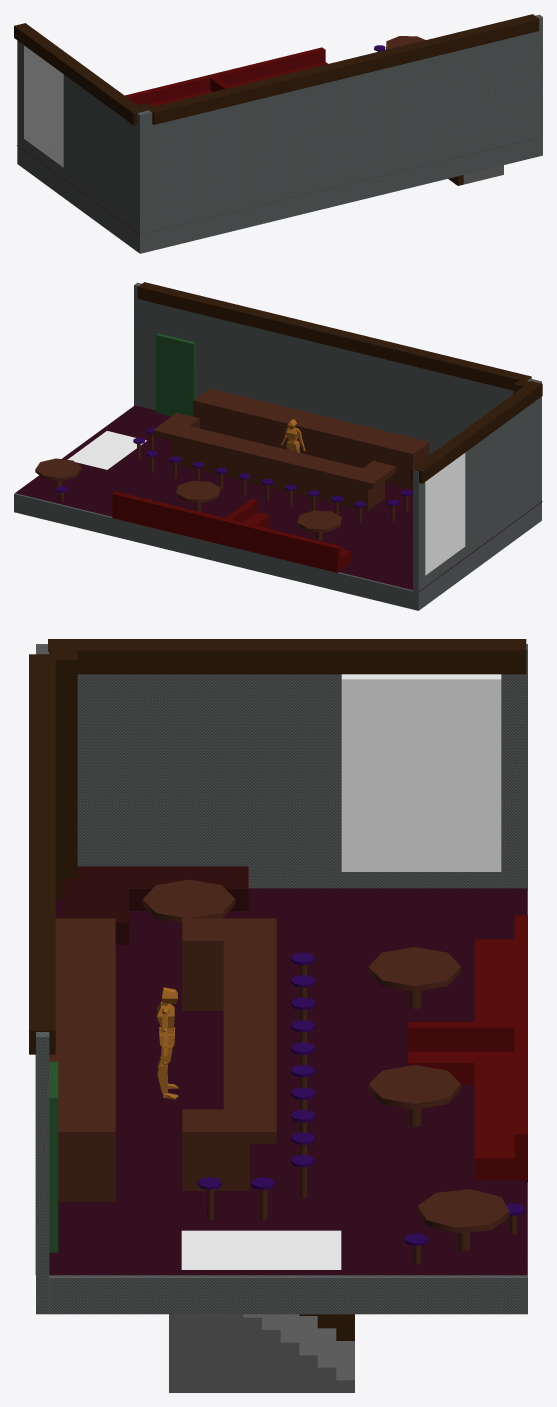
Rendered from Speakeasy (1).fbx.
3 views of the same model, one above another, from view 1: azimuth 30°, elevation 25°; view 2: azimuth 150°, elevation 25°; view 3: azimuth 270°, elevation 25° (orthographic). The views are drawn at different scales.
Parts seen in each view (by area): view 1: Speakeasy__1_, Cube__5_, Speakeasy_Door, Lounge_Sofa__1_, Cube__7_, Stairs, Table__3__1; view 2: Speakeasy__1_, Floor_Bar, Bar_Counter, Bar_Back, Cube__5_, Lounge_Sofa__1_, Speakeasy_Door, Enterance, Cube__7_, HiddenExit, Table__3__1, Table__4_ (+1 smaller); view 3: Floor_Bar, Speakeasy__1_, Speakeasy_Door, Bar_Counter, Bar_Back, Lounge_Sofa__1_, Cube__7_, Stairs, Cube__5_, Lounge_Sofa, HiddenExit, Cube__8_ (+5 smaller).
Boxes of the visible parts, <box> form: Speakeasy__1_: <box>17,14,542,253</box>; Cube__5_: <box>147,14,539,124</box>; Speakeasy_Door: <box>24,45,63,167</box>; Lounge_Sofa__1_: <box>125,47,327,106</box>; Cube__7_: <box>14,23,144,125</box>; Stairs: <box>463,165,503,184</box>; Table__3__1: <box>386,36,425,49</box>; Speakeasy__1_: <box>14,282,541,610</box>; Floor_Bar: <box>15,405,542,591</box>; Bar_Counter: <box>153,413,396,511</box>; Bar_Back: <box>193,388,429,489</box>; Cube__5_: <box>137,282,531,390</box>; Lounge_Sofa__1_: <box>112,491,350,572</box>; Speakeasy_Door: <box>425,453,465,575</box>; Enterance: <box>156,333,195,416</box>; Cube__7_: <box>411,381,542,483</box>; HiddenExit: <box>67,431,146,469</box>; Table__3__1: <box>35,458,81,480</box>; Table__4_: <box>297,510,342,532</box>; Floor_Bar: <box>35,888,527,1275</box>; Speakeasy__1_: <box>36,644,527,1314</box>; Speakeasy_Door: <box>341,674,501,871</box>; Bar_Counter: <box>182,918,276,1190</box>; Bar_Back: <box>49,918,115,1201</box>; Lounge_Sofa__1_: <box>408,915,527,1182</box>; Cube__7_: <box>48,639,526,674</box>; Stairs: <box>169,1314,354,1392</box>; Cube__5_: <box>29,654,55,1054</box>; Lounge_Sofa: <box>62,866,248,944</box>; HiddenExit: <box>181,1230,341,1269</box>; Cube__8_: <box>51,650,77,899</box>.
Bounding box in the file's own units: 141240 × 60220 × 75040.
